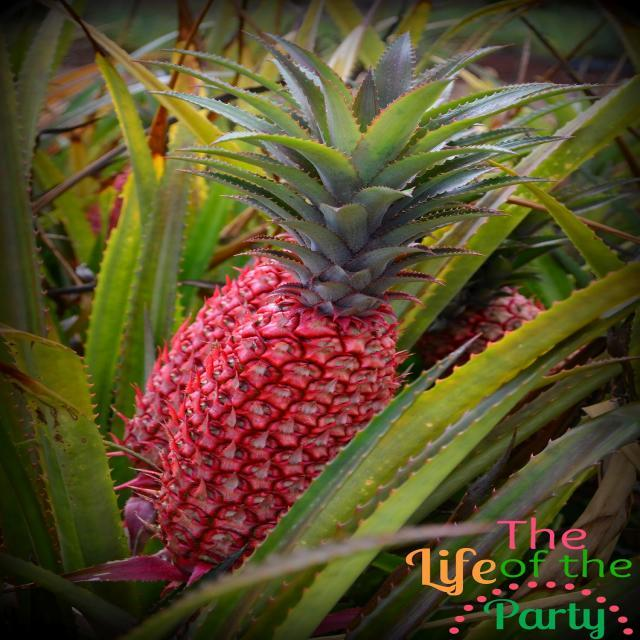PINEAPLE: (105, 114, 408, 546)
